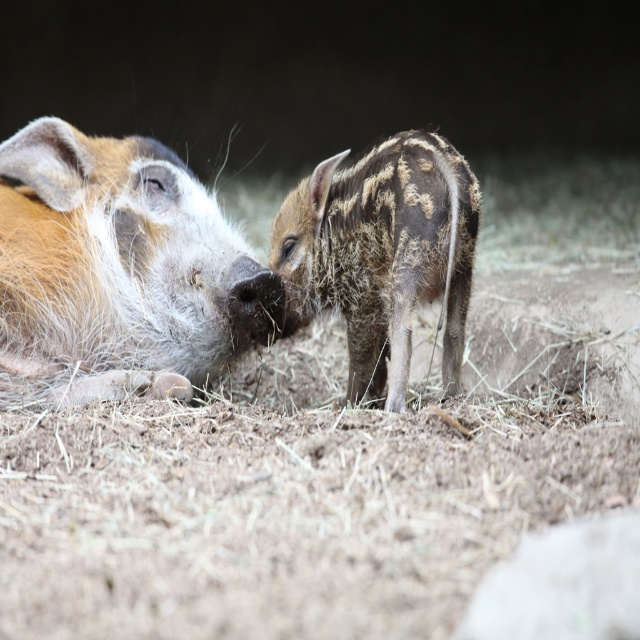Pig: (0, 111, 287, 410), (269, 124, 485, 411)
